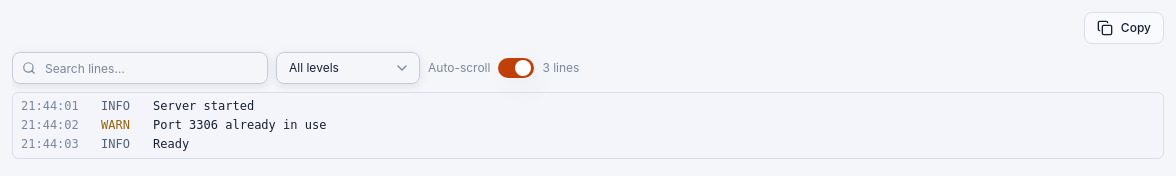
Test: LogViewer › narrows the view by search and reports how much of the log is left
Type "3306" into the field named "search log lines".
click(140, 68); type("3306")  # box top-left (12, 52), bottom-right (268, 84)
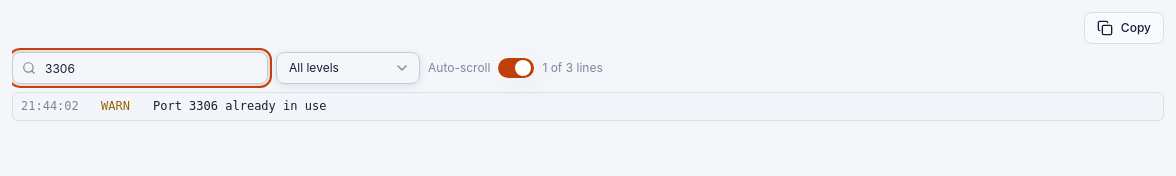
Expected: the text "Port 3306 already in use" is shown, top-left (153, 99), bottom-right (326, 113)
Expected: the text "1 of 3 lines" is shown, top-left (542, 60), bottom-right (603, 76)
Expected: the text "Server started" is gone
